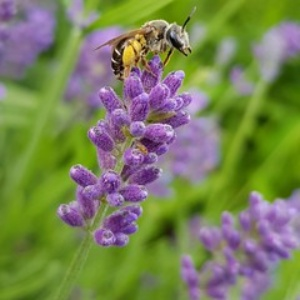bee: (101, 6, 198, 84)
